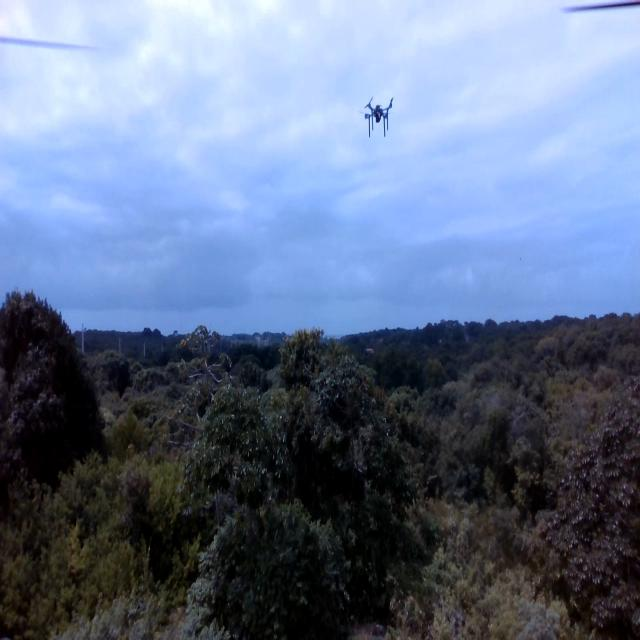-uav-: (355, 90, 398, 146)
